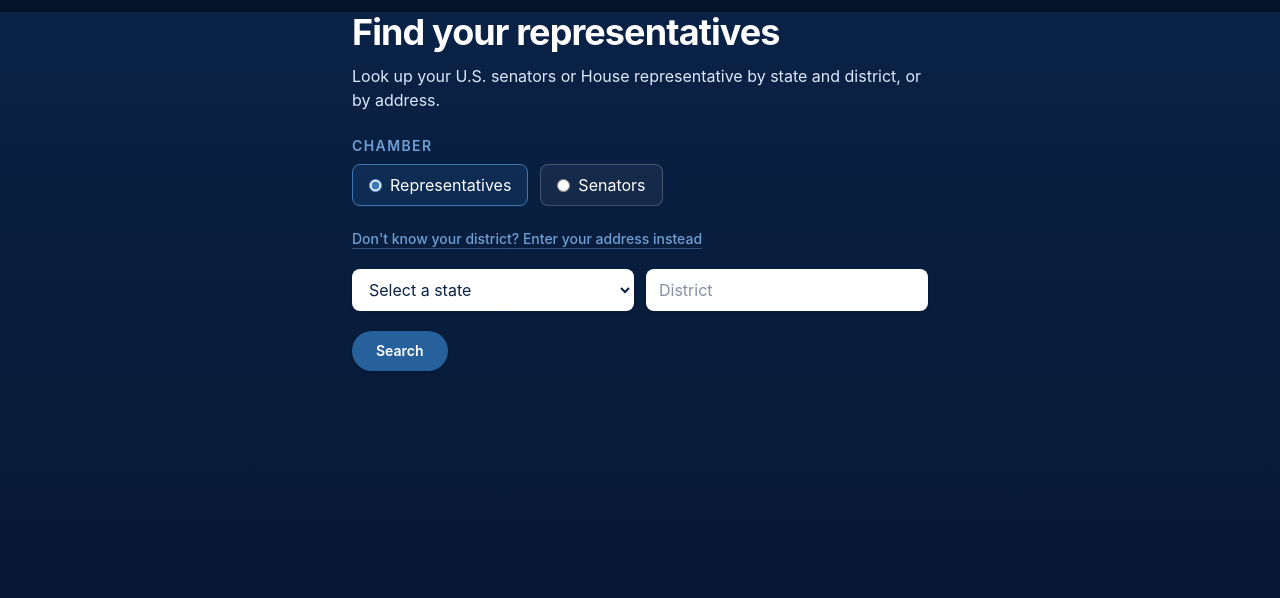
Test case: search flows › submits a senators-by-state search and renders the results
Click the radio button labelled "Senators".
click(564, 185)  # box [557,178,570,192]
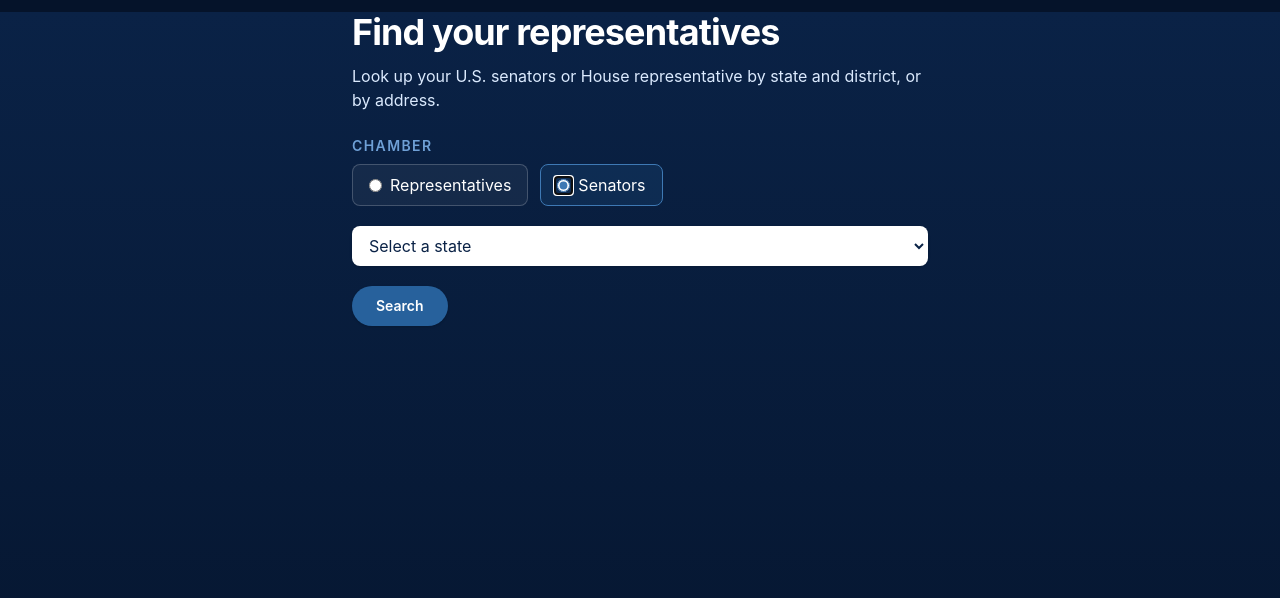
Select "California" in the dropdown at (640, 246), box [352,226,928,266]
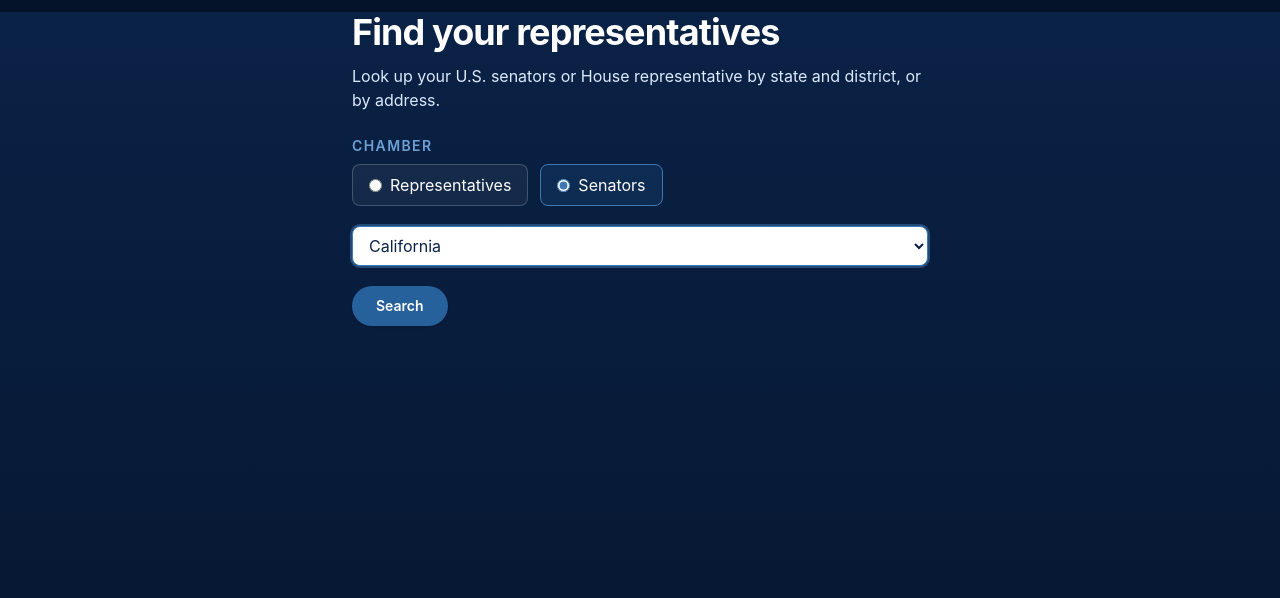
Click the button "Search".
click(400, 306)  # box [352,286,448,326]
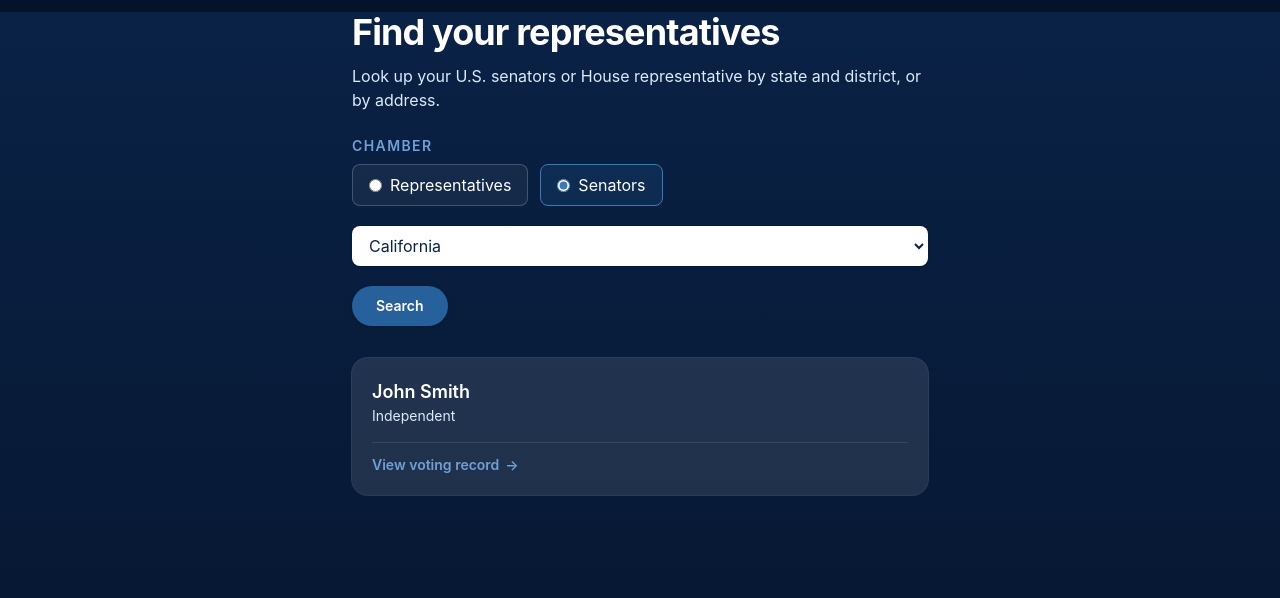
Now the text "John Smith" is shown, box [372,378,470,406]
